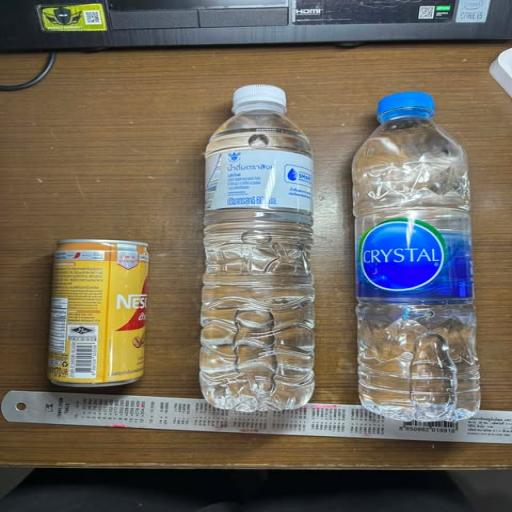bottle: (187, 69, 336, 418), (346, 70, 486, 431)
canned: (22, 210, 168, 400)
